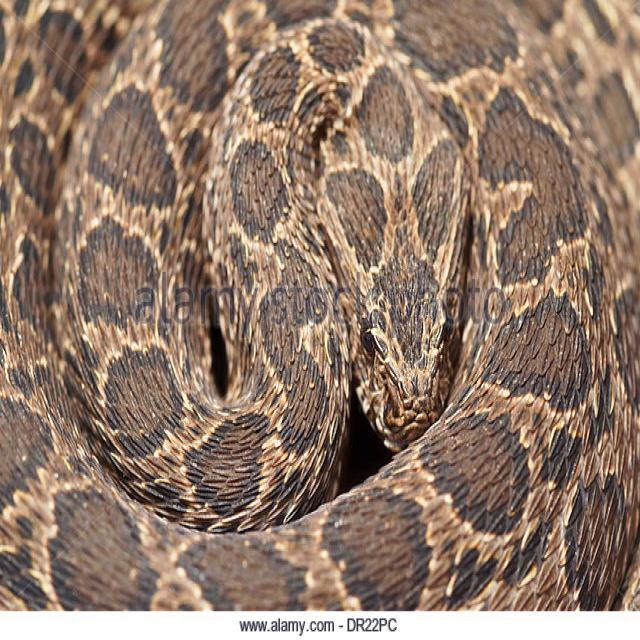Snake: (5, 9, 640, 604)
